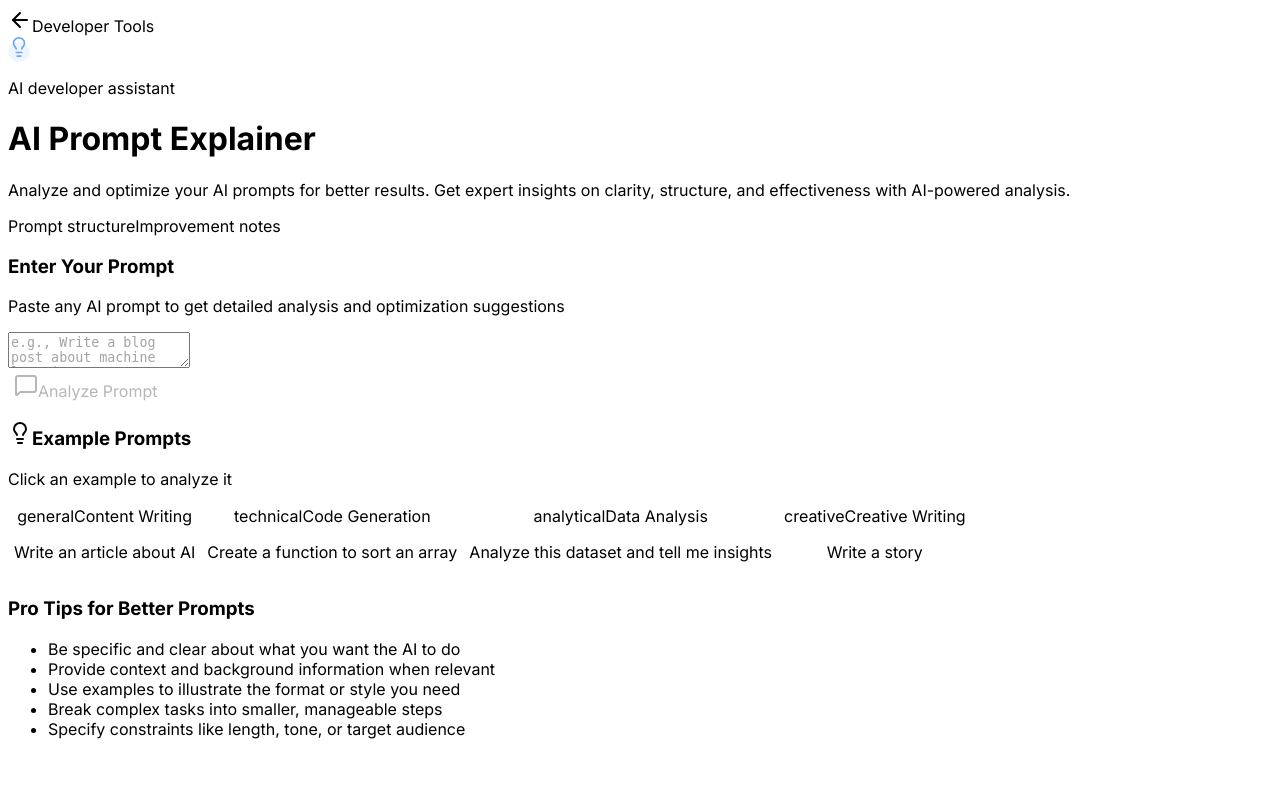
AI Prompt Explainer - Prompt Analysis Tests › should display quality scores with progress bars
Type "test prompt" into the text box with placeholder "Write a blog post about machine learning".
click(99, 350); type("test prompt")  # box [8, 332, 190, 368]
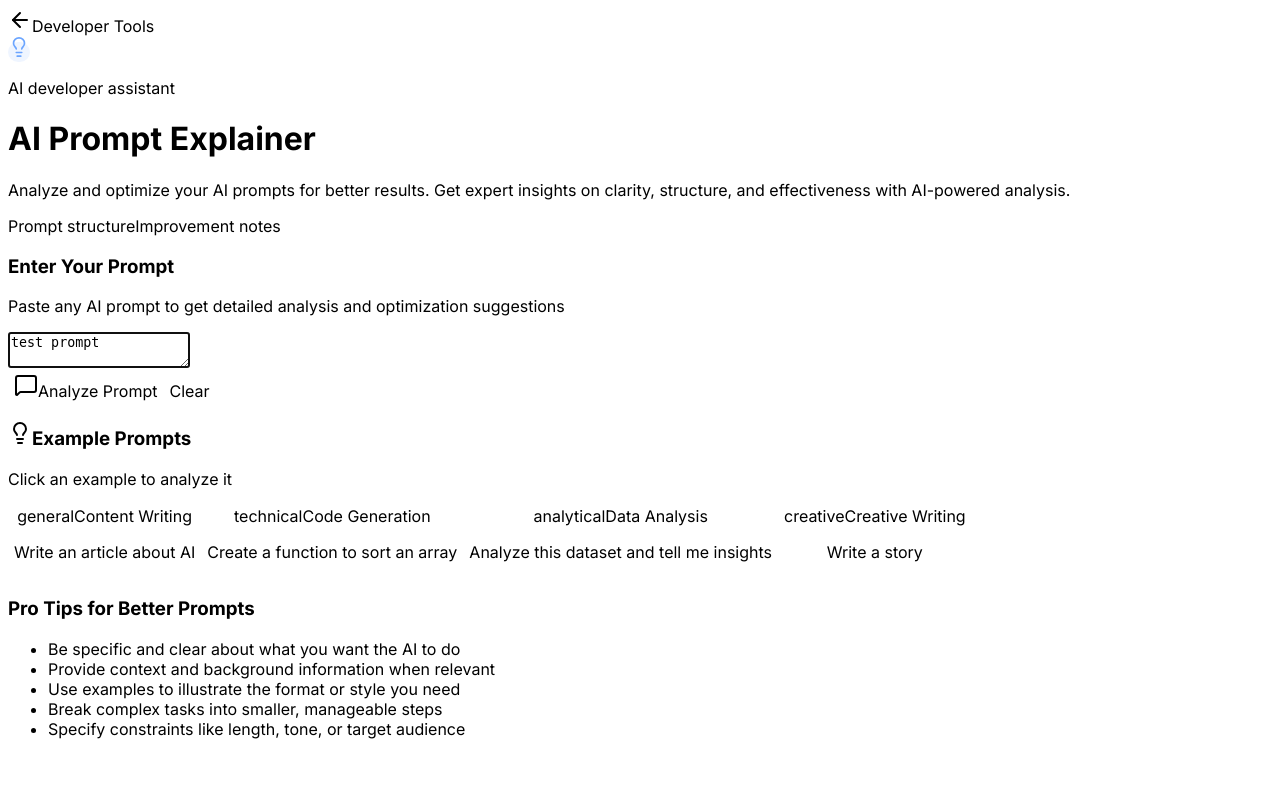
Click the button "Analyze Prompt".
click(86, 387)  # box [8, 372, 164, 402]
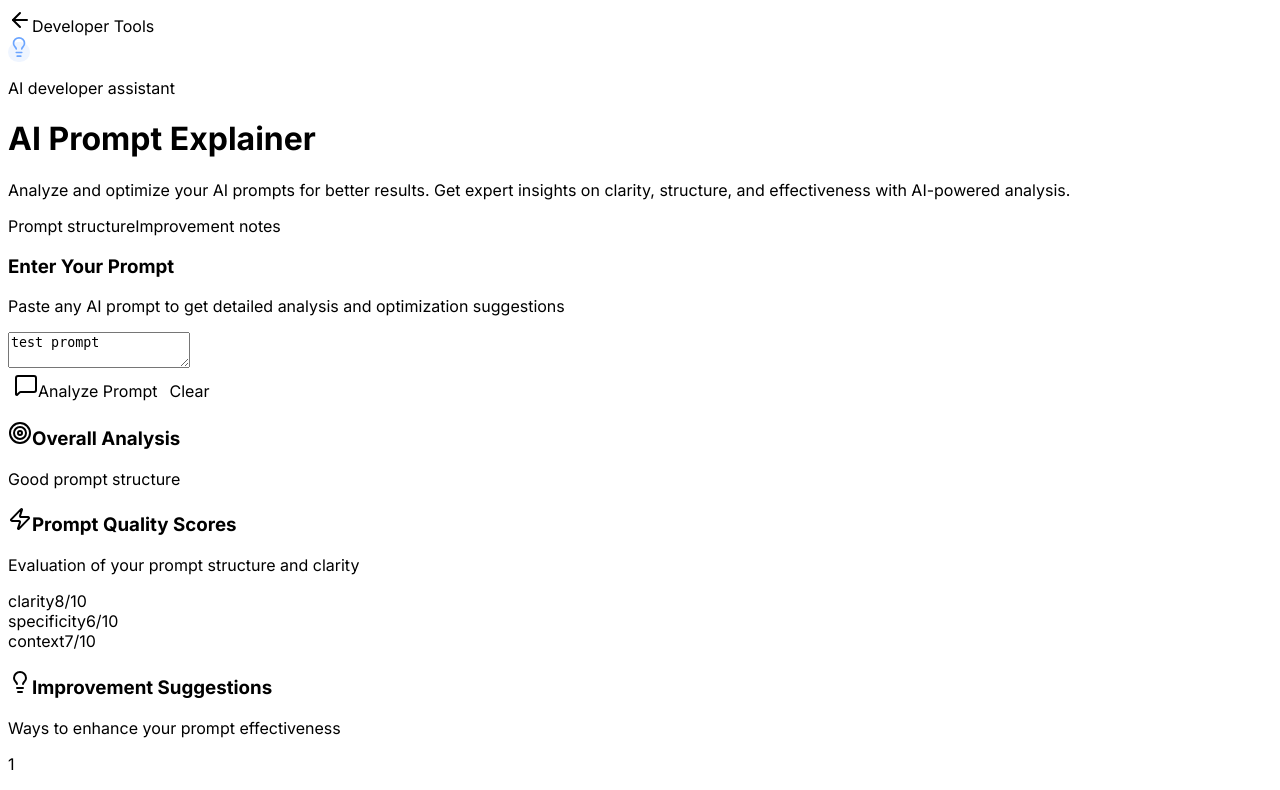
expect the text "8/10" is shown: met, box [55, 591, 87, 611]
expect the text "specificity" is shown: met, box [8, 611, 86, 631]
expect the text "6/10" is shown: met, box [86, 611, 118, 631]
